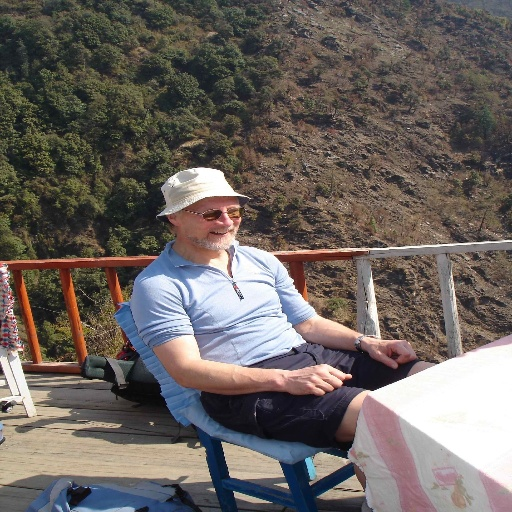hand: (280, 365, 352, 402), (366, 339, 421, 370)
